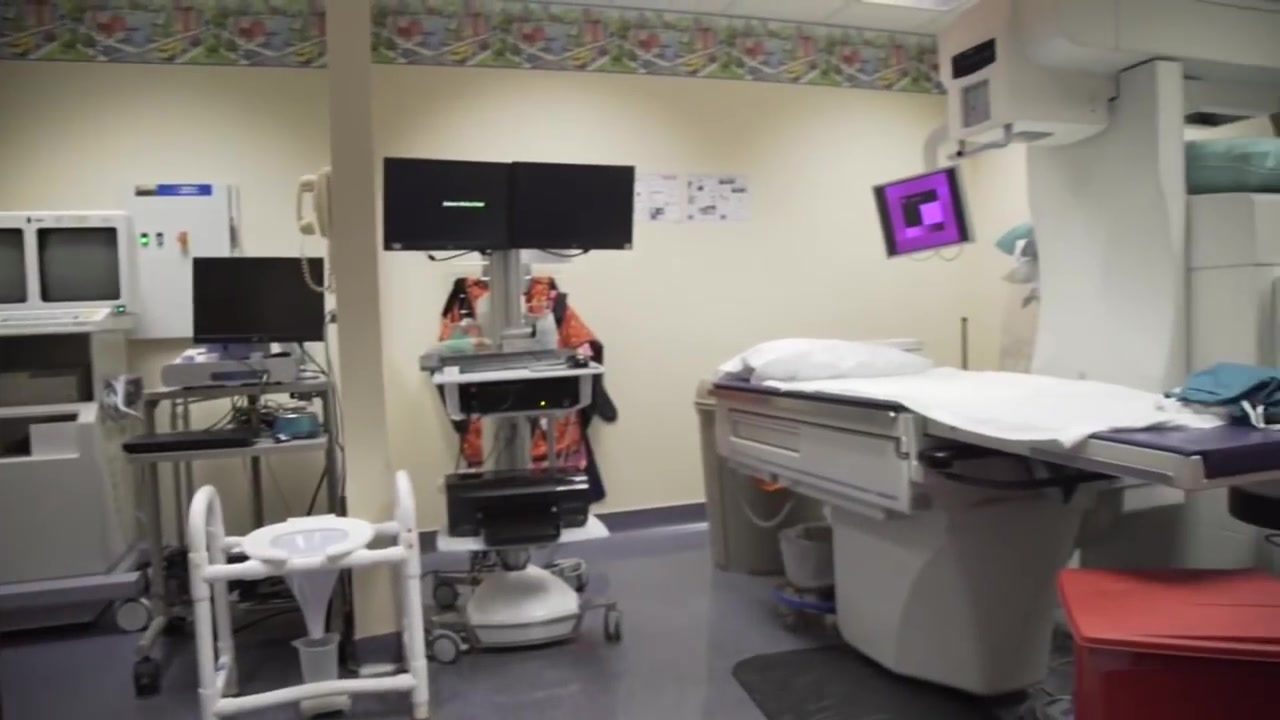bedside_monitor: (871, 170, 967, 256), (34, 223, 118, 311), (1, 223, 24, 313)
computer: (384, 159, 513, 251), (511, 163, 635, 253), (194, 258, 324, 342)
exam_table: (713, 337, 1278, 695)
keyboard: (122, 426, 253, 451)
mouse: (568, 353, 591, 371), (274, 430, 290, 445)
telephone: (294, 168, 335, 291)
waste_bin: (1052, 565, 1280, 720)
